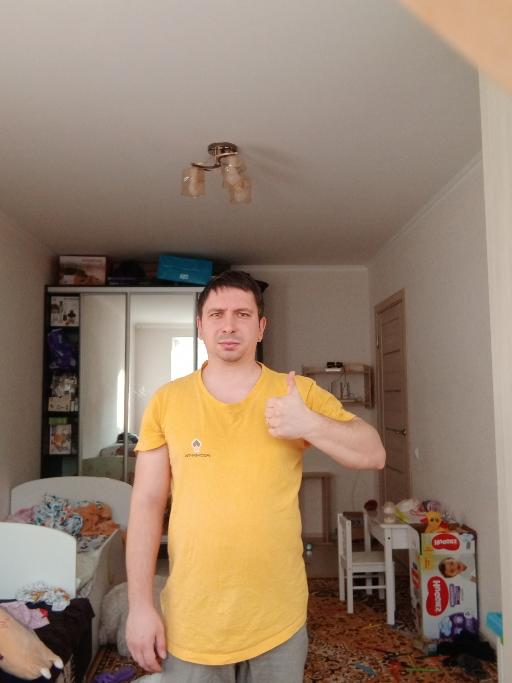like: (263, 368, 311, 441)
no_gesture: (122, 605, 168, 673)
